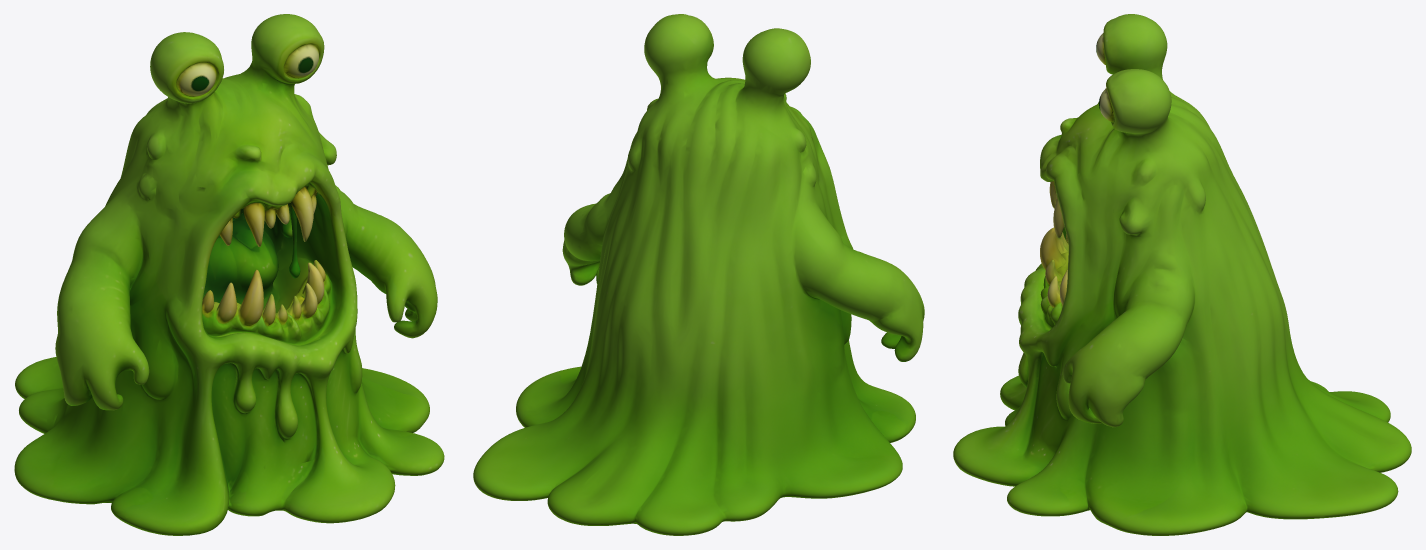
Rendered from Slime.obj.
The picture shows the model from 3 angles, left to right: view 1: azimuth 30°, elevation 25°; view 2: azimuth 150°, elevation 25°; view 3: azimuth 270°, elevation 25°; orthographic projection. The views are drawn at different scales.
Visible parts, largest first — view 1: material; view 2: material; view 3: material.
Part boxes in pixels (box(x1,y1,x2,y2)): material: box(14, 14, 444, 535); material: box(473, 14, 924, 535); material: box(953, 14, 1411, 535).
Size of the model in its own units: 38 by 40 by 41.
Materials: 1 (1 with a texture image).
